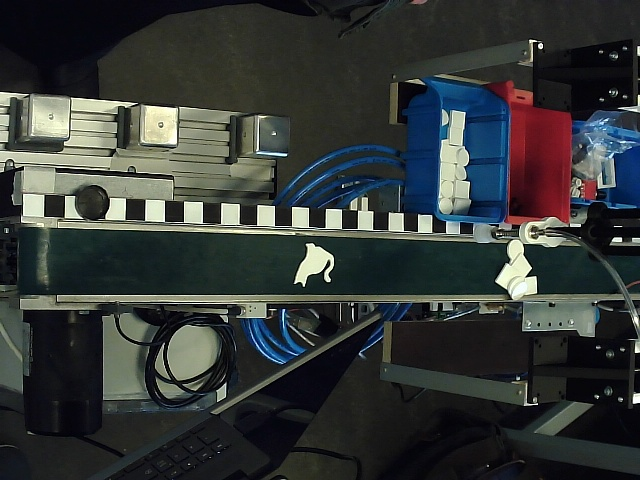cat: (293, 242, 335, 289)
